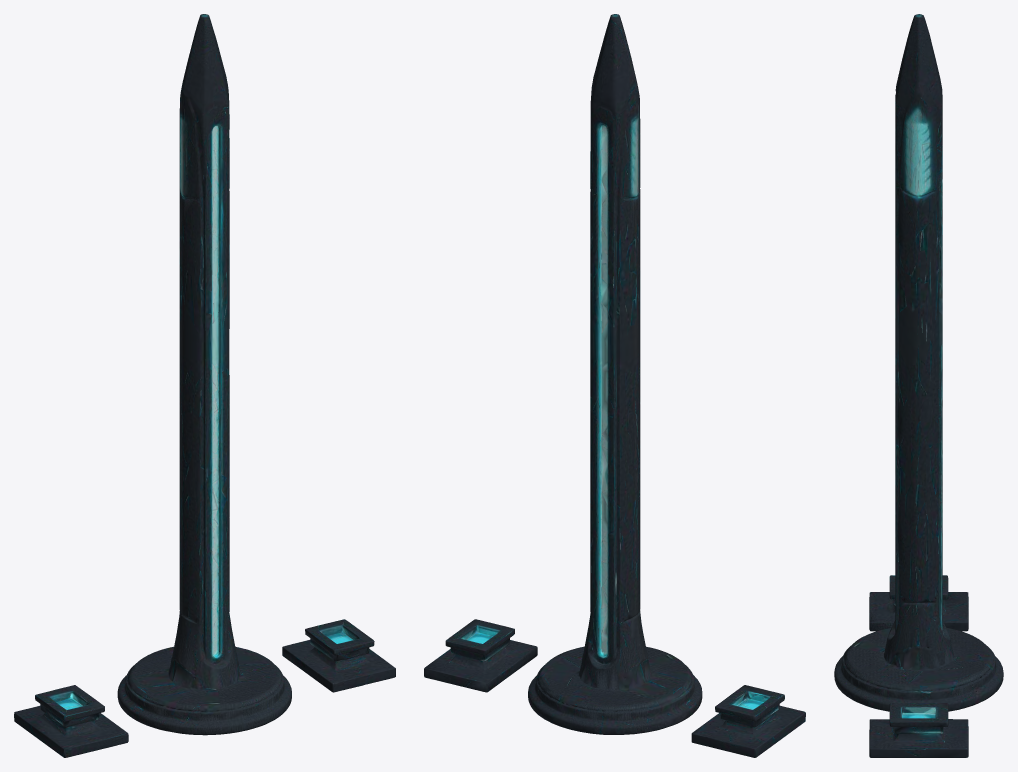
Rendered from pylon.glb.
3 renders of one model, left to right at view 1: azimuth 30°, elevation 25°; view 2: azimuth 150°, elevation 25°; view 3: azimuth 270°, elevation 25°, orthographic. The views are drawn at different scales.
Bounding box in the file's own units: 0.9672 × 1.9 × 0.4396.
Materials: 1 (1 with a texture image).
